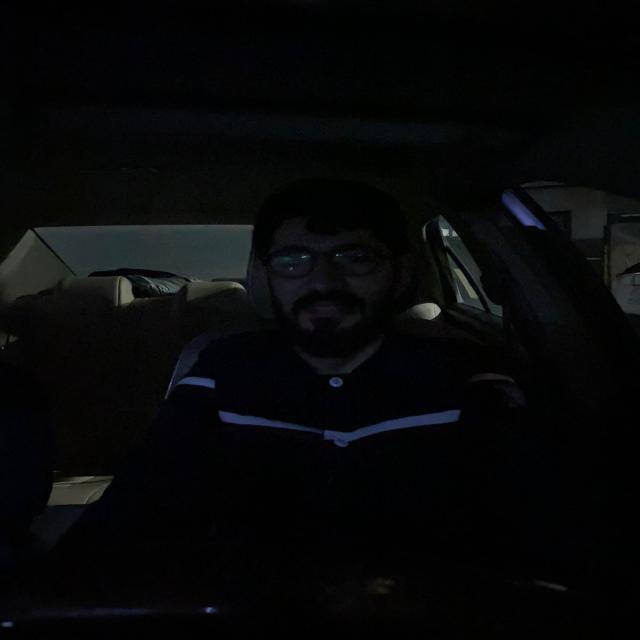person: (267, 208, 399, 346)
